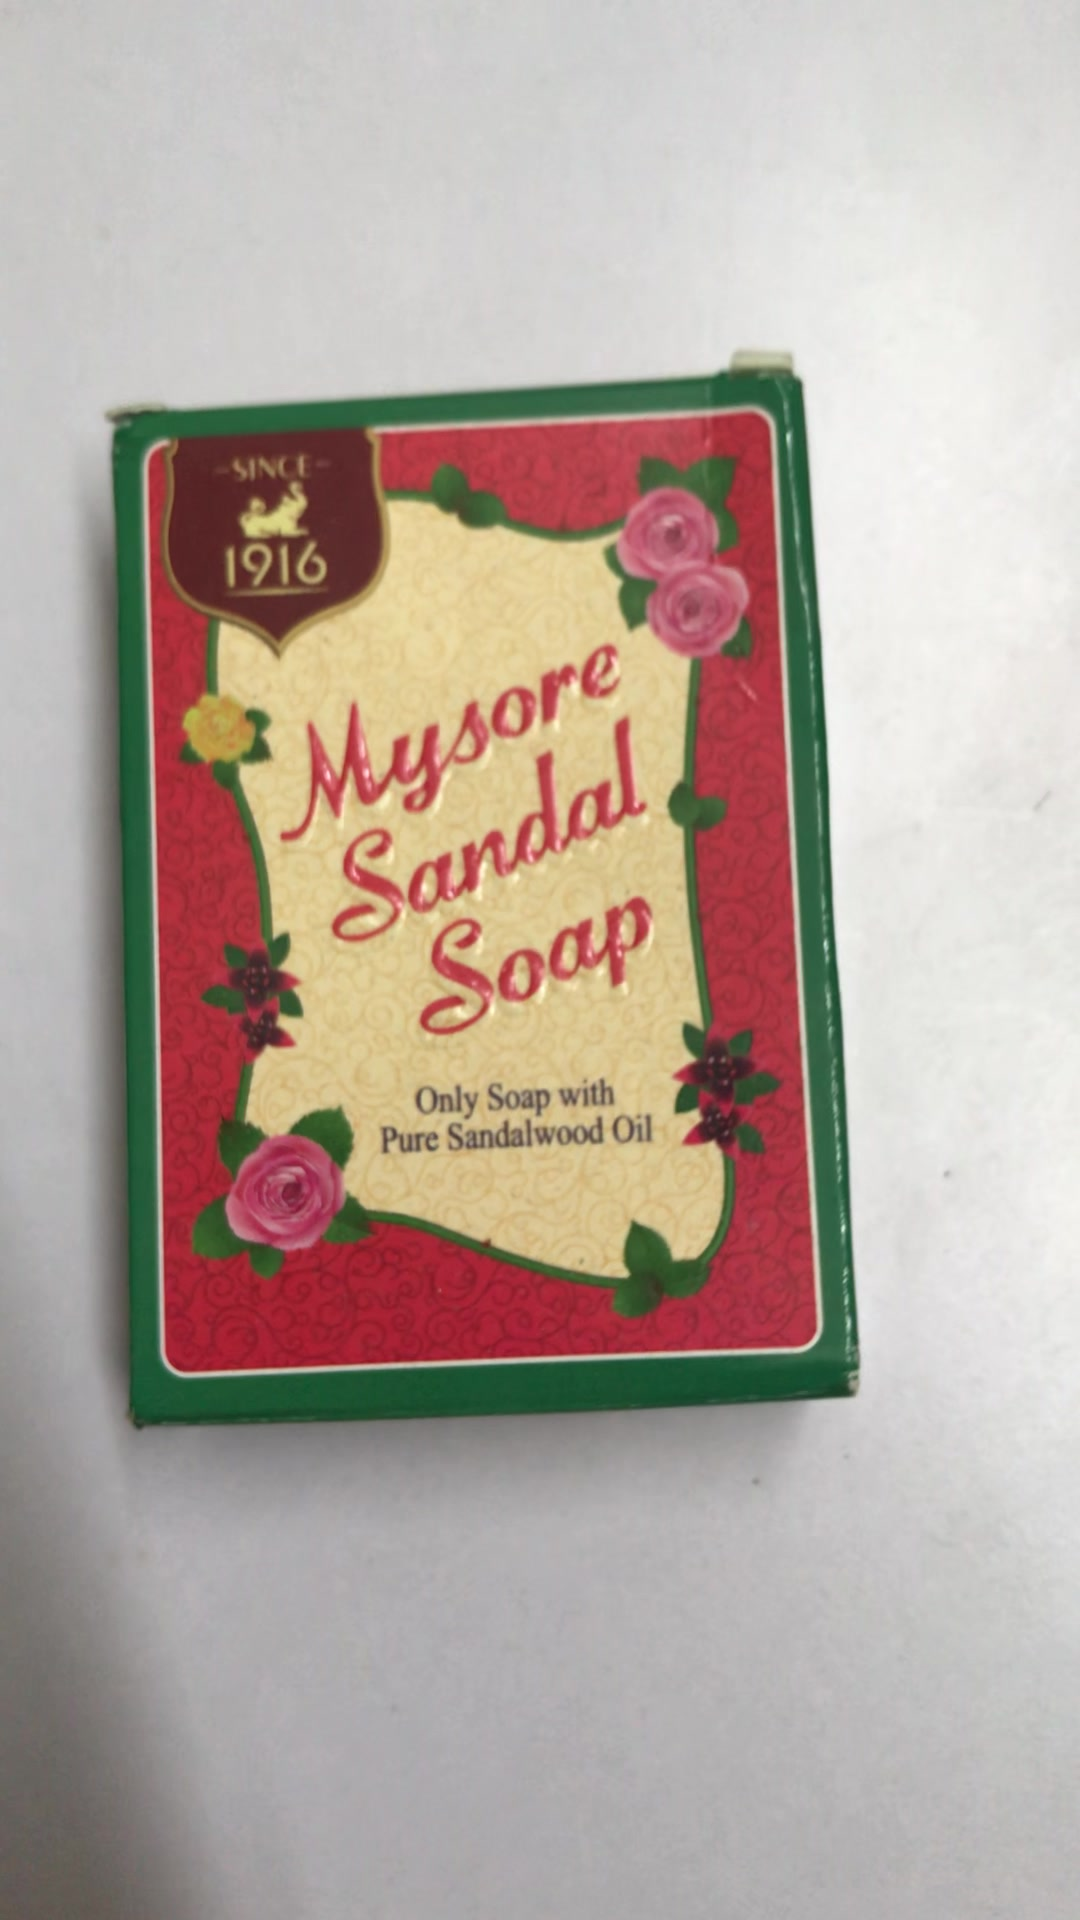mysore sandal soap: (109, 381, 857, 1415)
